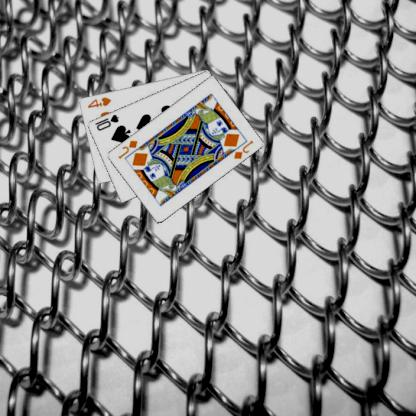10S: (94, 112, 122, 132)
4H: (86, 94, 114, 109)
JD: (117, 138, 140, 160), (233, 138, 256, 160)
